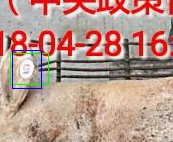text: (10, 53, 48, 84)
